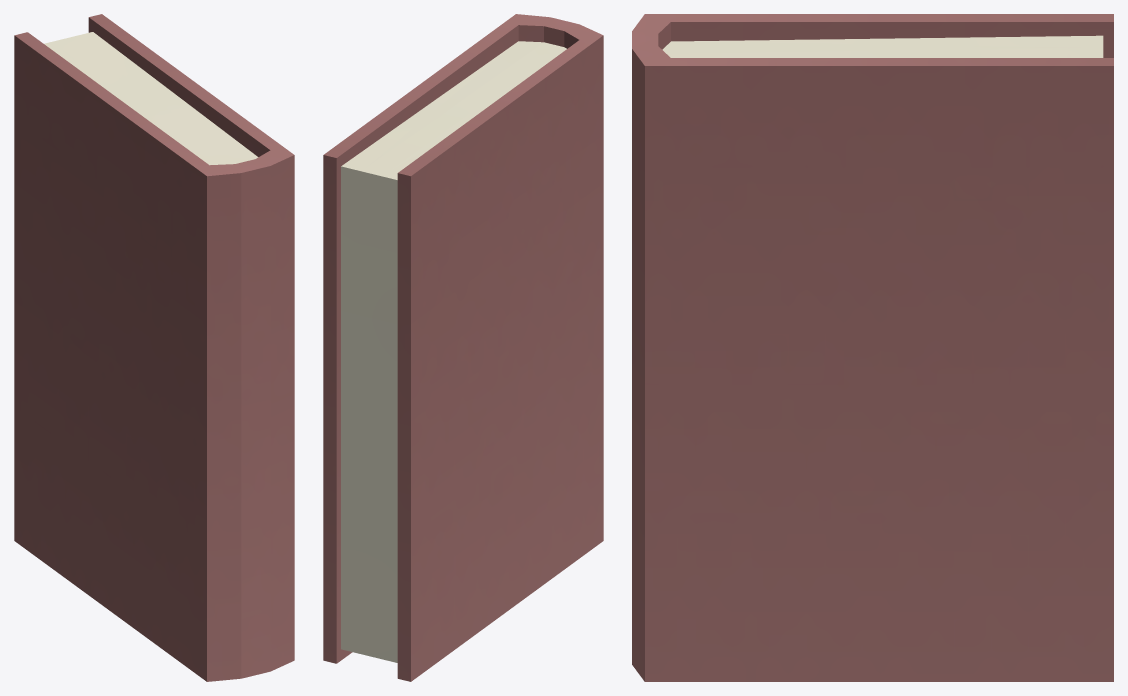
The model's file is book_2.dae.
The picture shows the model from 3 angles, left to right: view 1: azimuth 30°, elevation 25°; view 2: azimuth 150°, elevation 25°; view 3: azimuth 270°, elevation 25°; orthographic projection. The views are drawn at different scales.
Visible parts, largest first — view 1: book_2; view 2: book_2; view 3: book_2.
Part boxes in pixels (x1,y1,x2,y2): book_2: (14,14,294,681); book_2: (323,14,603,681); book_2: (632,14,1113,681).
Size of the model in its own units: 0.0375 by 0.147 by 0.2073.
